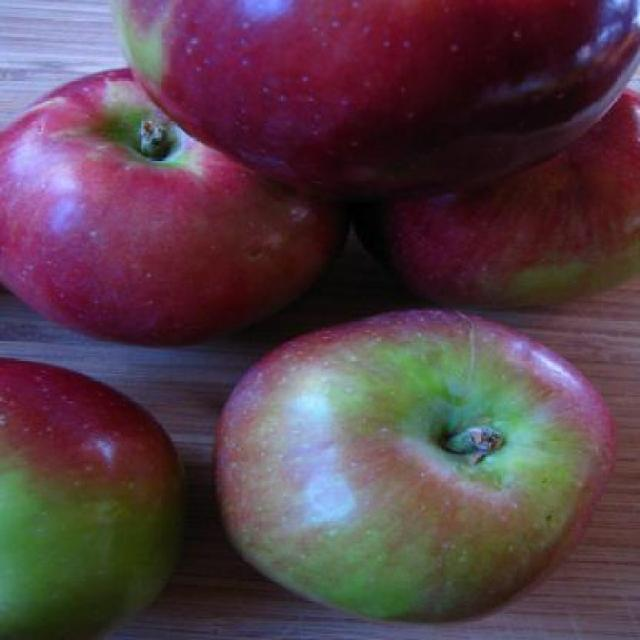Apple pie: (198, 306, 632, 623), (107, 0, 640, 202), (0, 64, 343, 344), (349, 87, 640, 313), (0, 351, 194, 638)
